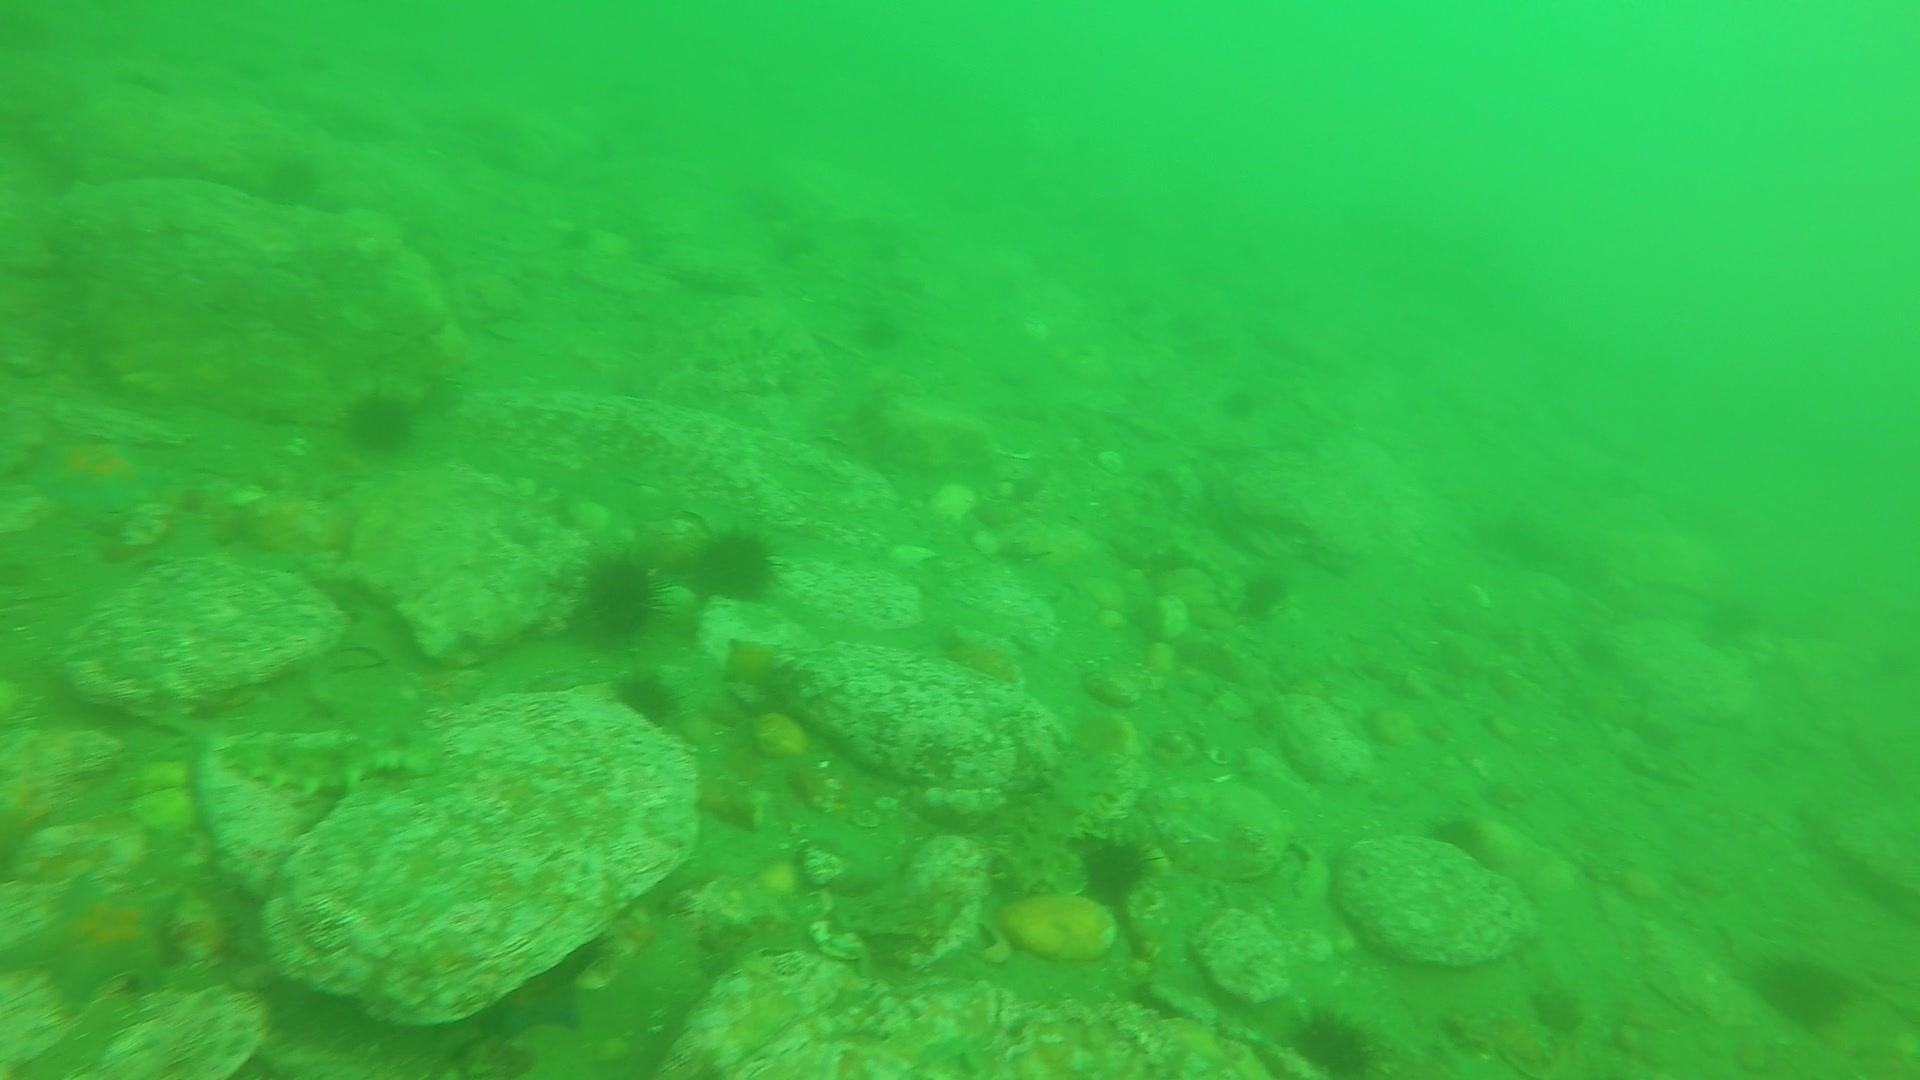echinus: (570, 547, 667, 646), (1749, 947, 1855, 1034), (684, 524, 783, 607), (1069, 825, 1160, 911), (1282, 1005, 1385, 1077), (338, 385, 422, 462), (608, 666, 684, 735), (1424, 808, 1497, 872), (257, 149, 326, 214), (1232, 564, 1294, 625), (851, 307, 906, 357)
holothurian: (988, 717, 1133, 898), (214, 713, 444, 807)
starfish: (11, 869, 182, 1011), (26, 429, 170, 522), (939, 622, 1029, 686), (717, 633, 794, 700)
